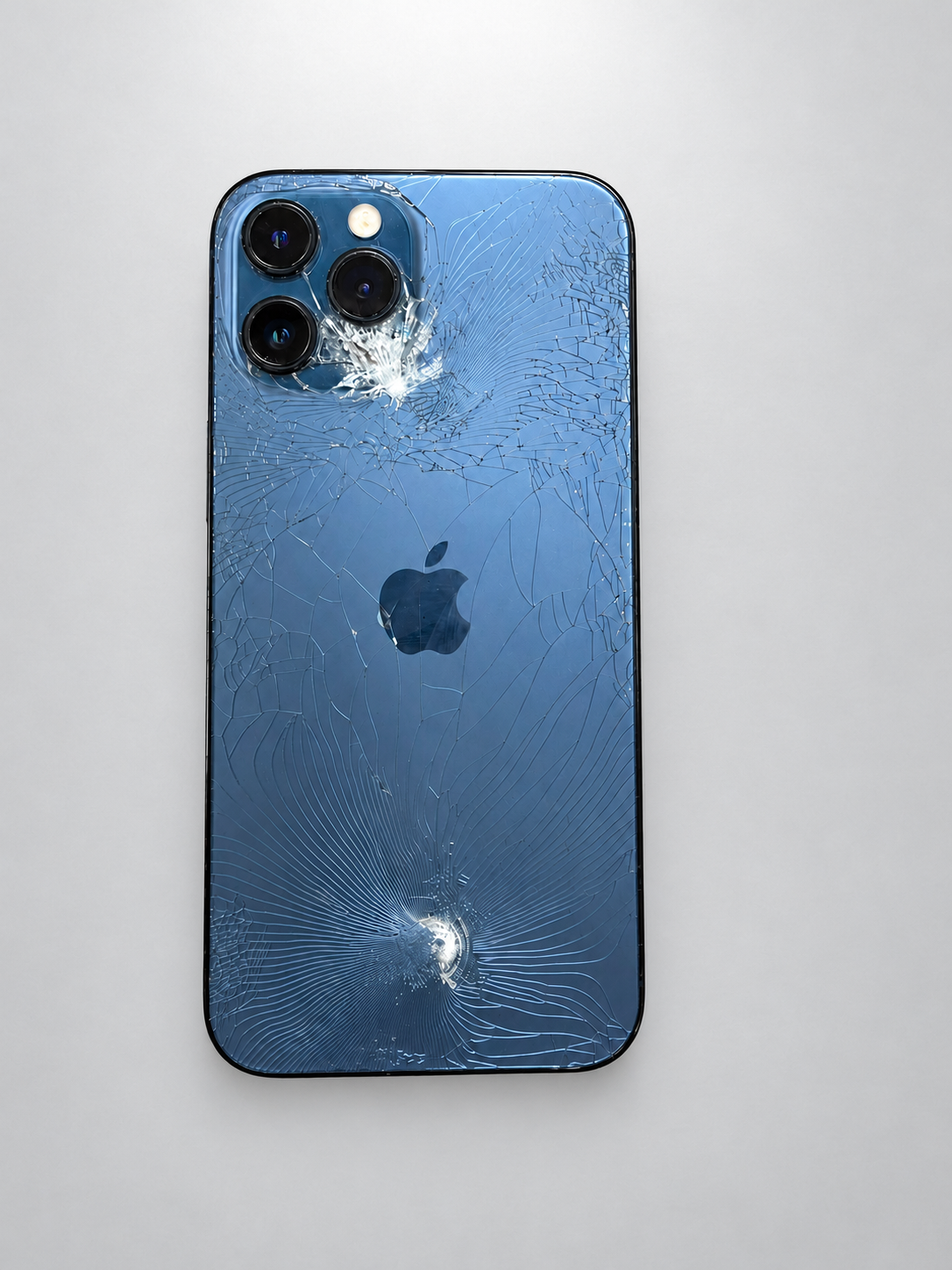iphone_12_pro_max_Crack: (177, 117, 764, 1147)
